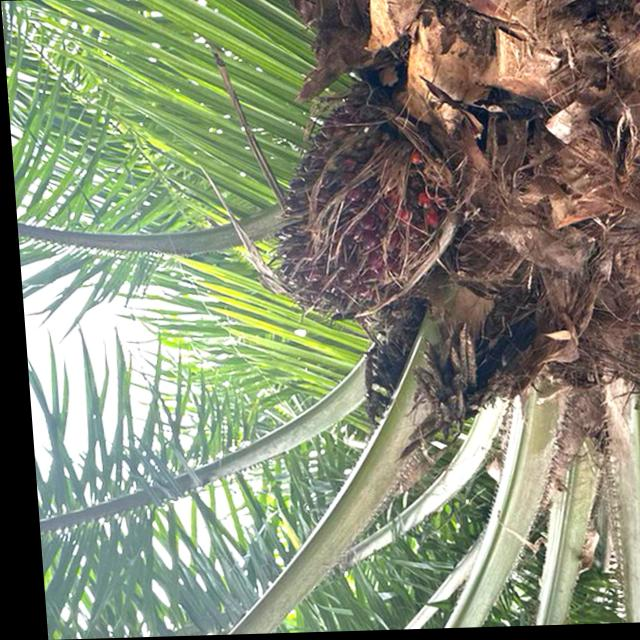ripe: (247, 100, 472, 345)
